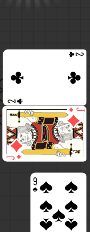4C: (67, 51, 84, 59)
9C: (31, 177, 38, 194)
